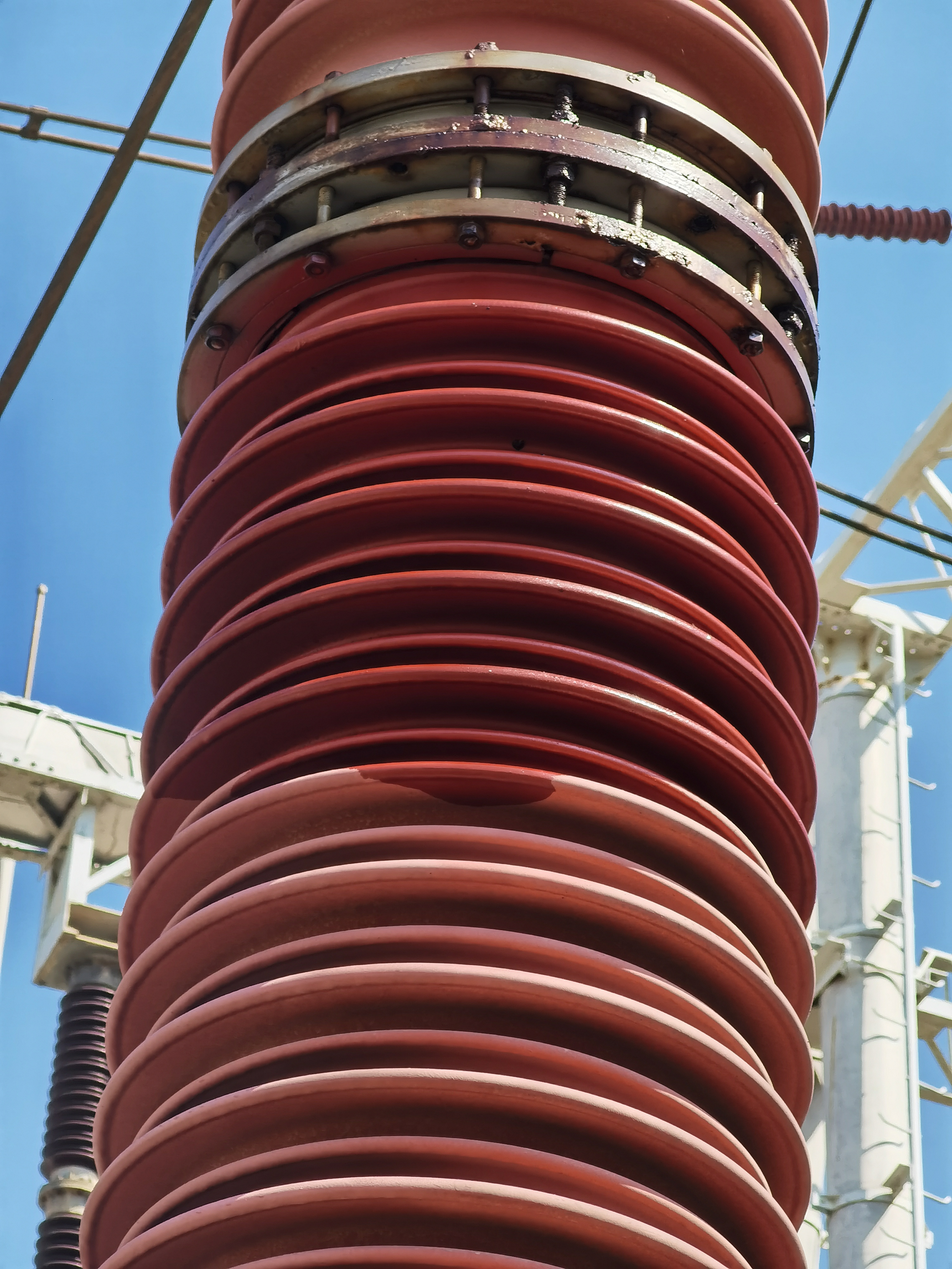cysb_tg: (83, 0, 841, 1269)
sly_bjbmyw: (143, 40, 829, 862)
